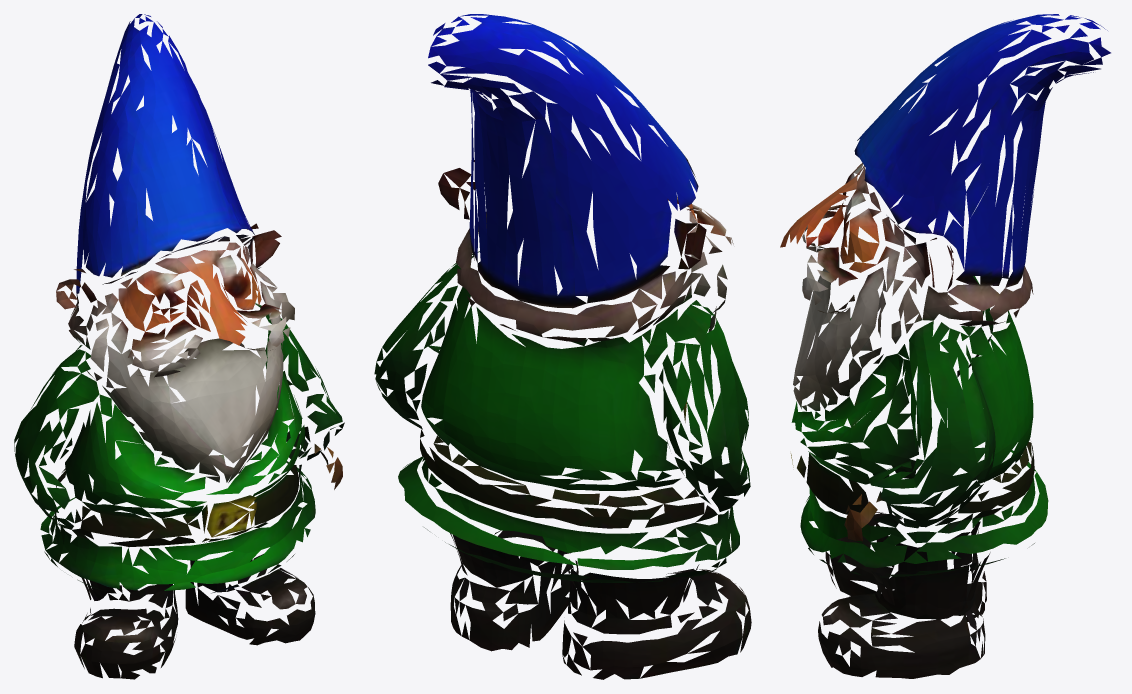
File: gnome2.glb
The picture shows the model from 3 angles, left to right: view 1: azimuth 30°, elevation 25°; view 2: azimuth 150°, elevation 25°; view 3: azimuth 270°, elevation 25°; orthographic projection. The views are drawn at different scales.
Visible parts, largest first — view 1: world; view 2: world; view 3: world.
Part boxes in pixels (x1=…): world: x1=14, y1=14, x2=344, y2=679; world: x1=374, y1=14, x2=751, y2=679; world: x1=780, y1=14, x2=1110, y2=678.
Size of the model in its own units: 0.5534 by 0.9984 by 0.484.
Materials: 1 (1 with a texture image).
